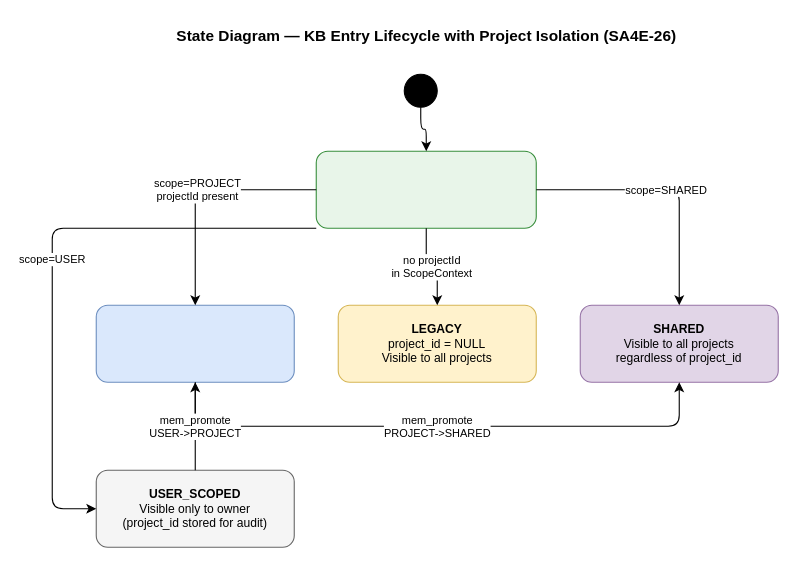
Some shapes in this 798 by 567 pixel diagram are drawn without their labels. Each missing label, with the centre of its shape:
"NEW Entry created via mem_ingest project_id = ScopeContext.projectId" goes at (425,189).
"PROJECT_SCOPED Visible only within matching project" goes at (194,343).
